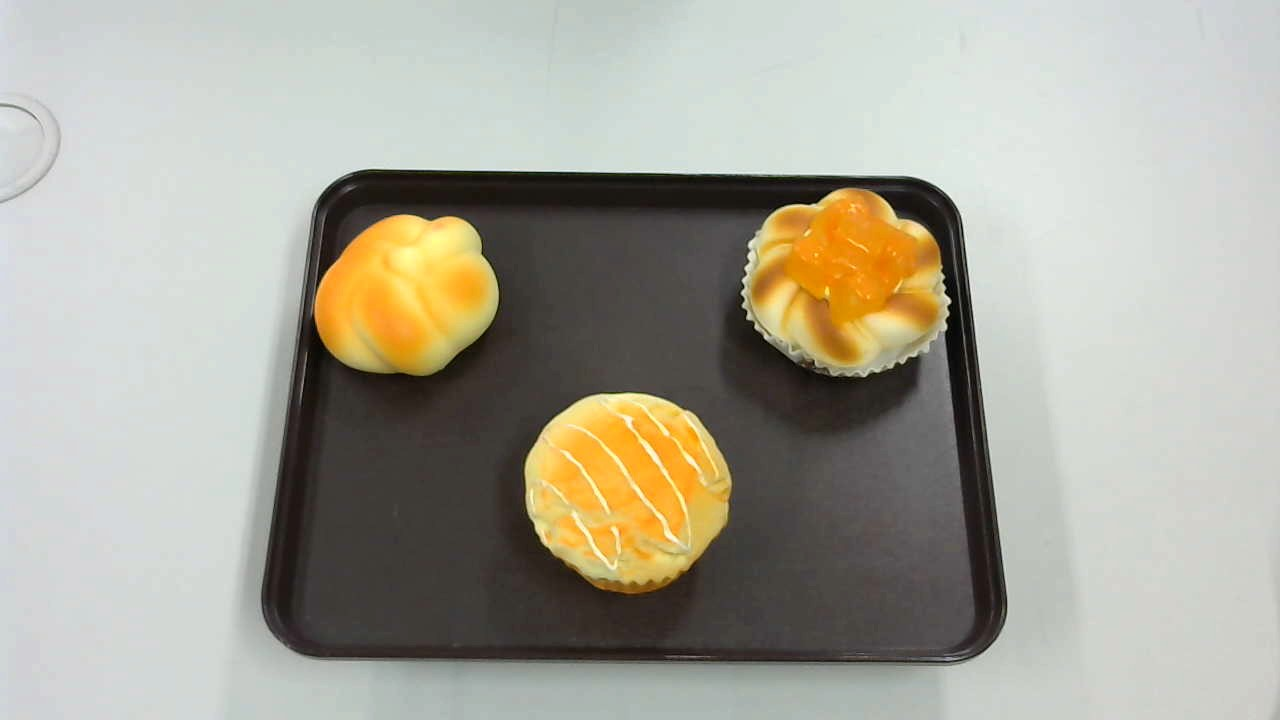croissant: (314, 214, 500, 374)
cupcake: (524, 388, 731, 597)
mango tart: (741, 188, 952, 378)
